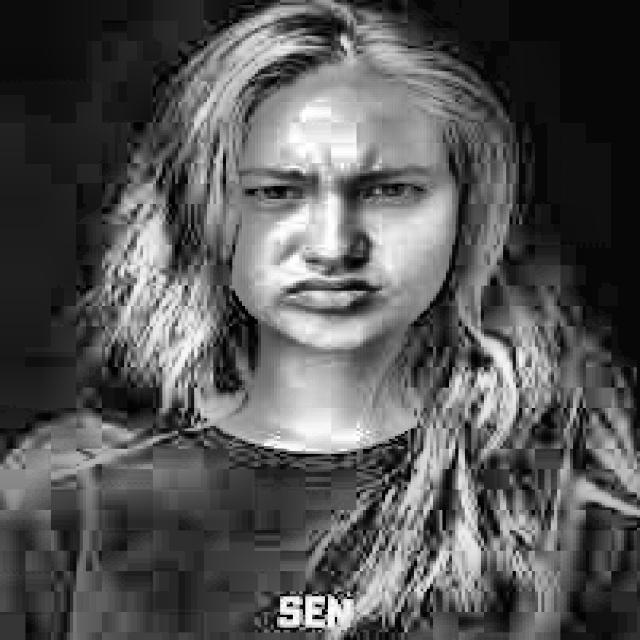sad: (160, 2, 524, 369)
